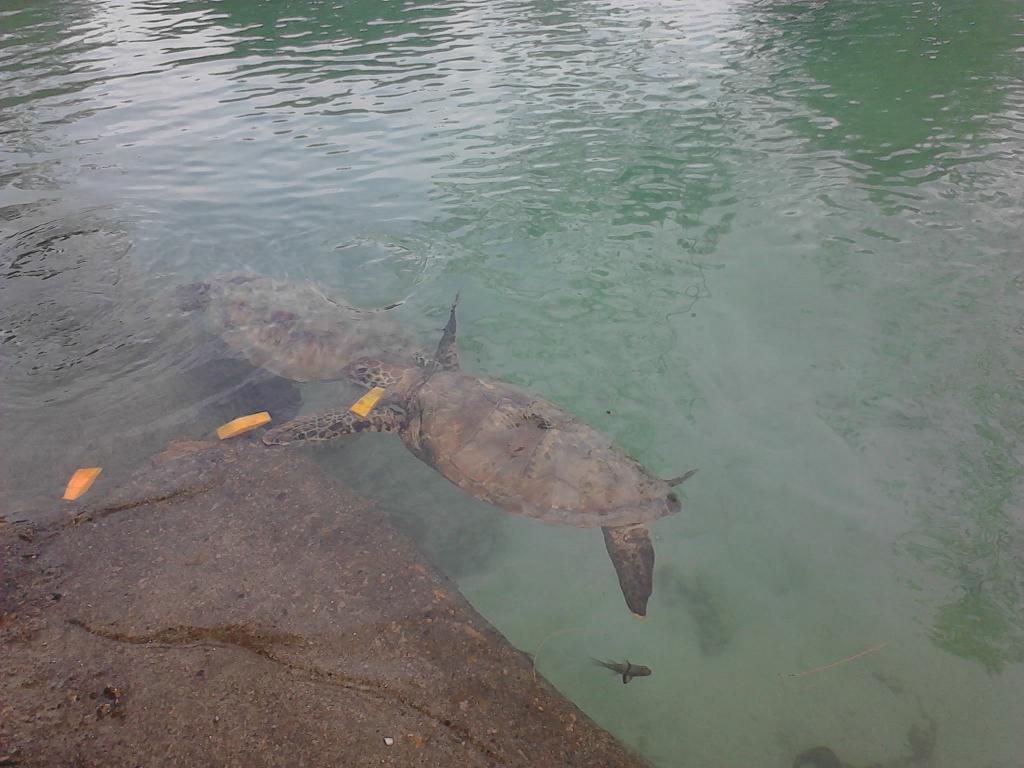Sea turtles: (257, 276, 698, 620), (172, 266, 424, 382)
